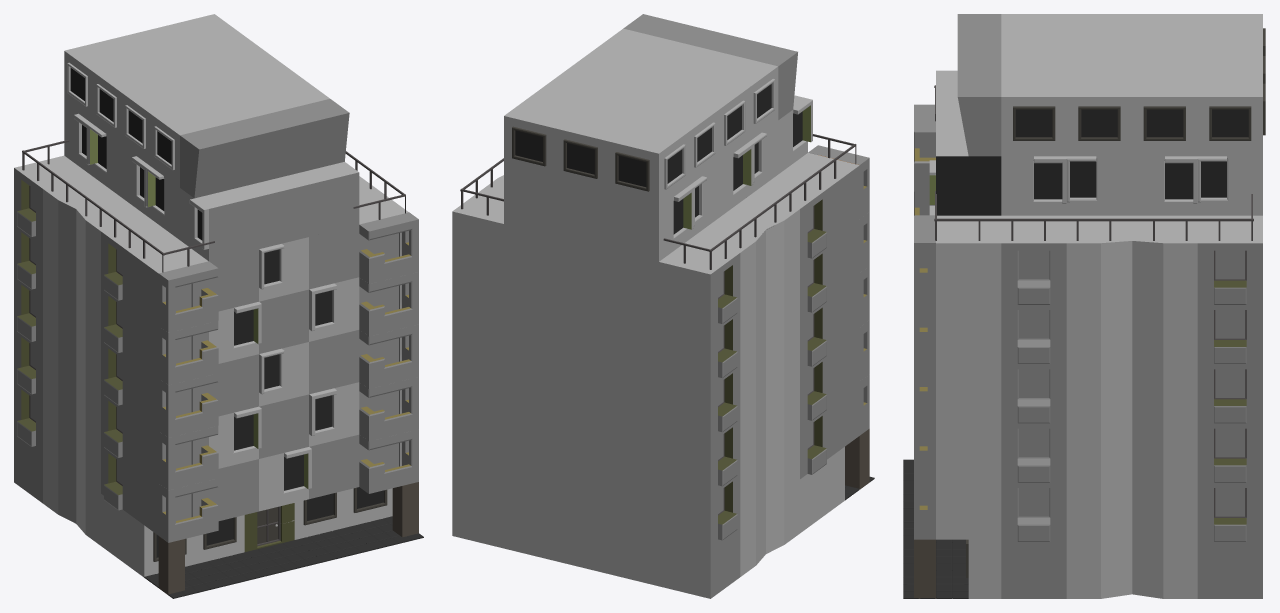
Rendered from tower01.fbx.
The picture shows the model from 3 angles, left to right: view 1: azimuth 30°, elevation 25°; view 2: azimuth 150°, elevation 25°; view 3: azimuth 270°, elevation 25°; orthographic projection. The views are drawn at different scales.
Parts seen in each view (by area): view 1: edificioSinFracturar_02; view 2: edificioSinFracturar_02; view 3: edificioSinFracturar_02.
Part boxes in pixels (left/top/right/bottom): edificioSinFracturar_02: left=14, top=14, right=423, bottom=598; edificioSinFracturar_02: left=452, top=14, right=874, bottom=598; edificioSinFracturar_02: left=903, top=14, right=1265, bottom=598.
Size of the model in its own units: 2380 by 3675 by 2546.
